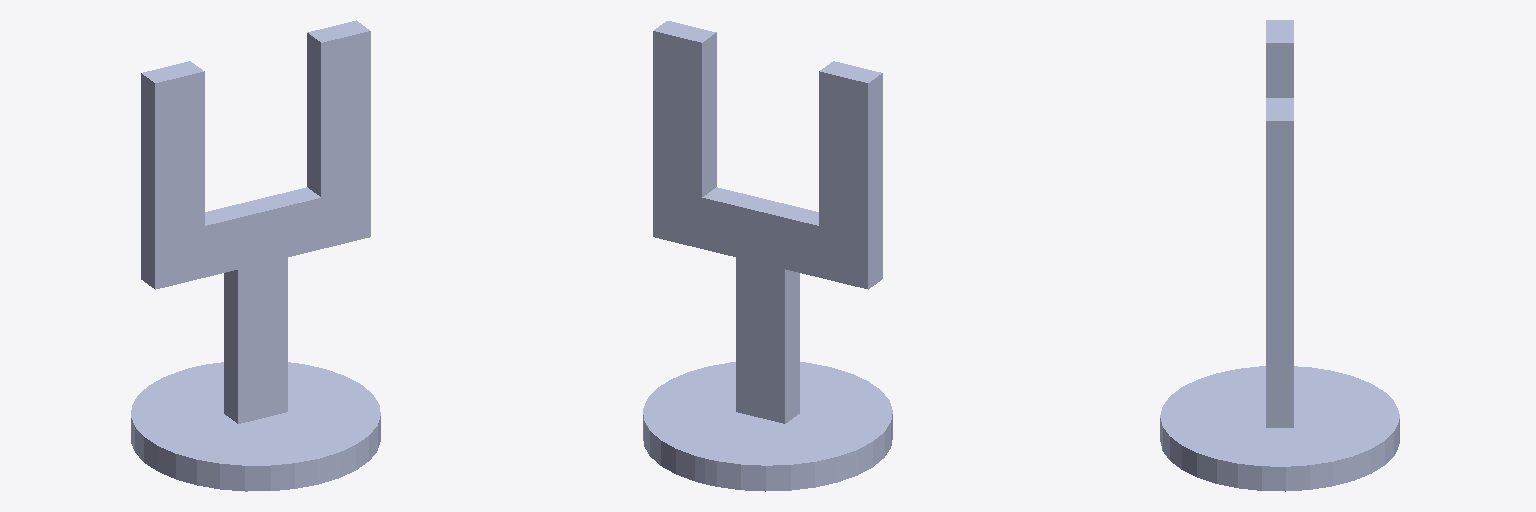
robot.urdf — large_jig_urdf:
<?xml version="1.0"?>
<!-- This URDF was automatically created by SolidWorks to URDF Exporter! Originally created by Stephen Brawner (brawner@gmail.com) 
     Commit Version: v1.6.1-dev1-4-g75b5c6a  Build Version: 1.6.9609.37988
     For more information, please see http://wiki.ros.org/sw_urdf_exporter -->
<robot
  name="large_jig_urdf">
  <link
    name="large_jig_link">
    <inertial>
      <origin
        xyz="-1.1102E-16 0 0.025923"
        rpy="0 0 0" />
      <mass
        value="0.1" />
      <inertia
        ixx="6.300833333e-05"
        ixy="0"
        ixz="0"
        iyy="6.296694857e-05"
        iyz="0"
        izz="3.222528191e-05" />
    </inertial>
    <visual>
      <origin
        xyz="0 0 0"
        rpy="0 0 0" />
      <geometry>
        <mesh
          filename="package://large_jig_urdf/meshes/large_jig_link.STL" />
      </geometry>
      <material
        name="">
        <color
          rgba="0.79216 0.81961 0.93333 1" />
      </material>
    </visual>
    <collision>
      <origin
        xyz="0 0 0.0375"
        rpy="0 0 0" />
      <geometry>
        <box
          size="0.04394353 0.006 0.075" />
      </geometry>
    </collision>
  </link>
</robot>

--- Facts derived from the render (not from the file) ---
Views: 3 orthographic renders of the robot side by side, from view 1: azimuth 30°, elevation 25°; view 2: azimuth 150°, elevation 25°; view 3: azimuth 270°, elevation 25°.
Model large_jig_urdf with 1 links and 0 joints (none), rooted at large_jig_link, posed all joints at 0.
Links seen in each view (by area): view 1: large_jig_link; view 2: large_jig_link; view 3: large_jig_link.
Boxes of the visible links, x1,y1,x2,y2 form: large_jig_link: (131,20,380,491); large_jig_link: (643,21,892,491); large_jig_link: (1160,20,1399,491).
Bounding box of the posed robot: 0.0439 × 0.044 × 0.075 m (x, y, z).
Meshes: 1 distinct files referenced, 1 mesh visuals loaded (1 binary STL).
